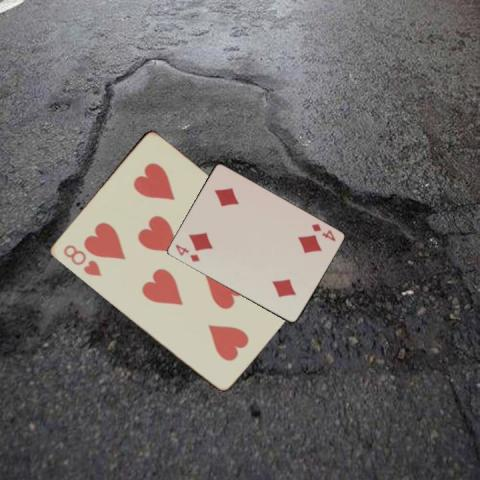4d: (172, 241, 201, 264), (308, 221, 337, 243)
8h: (59, 241, 103, 278)
